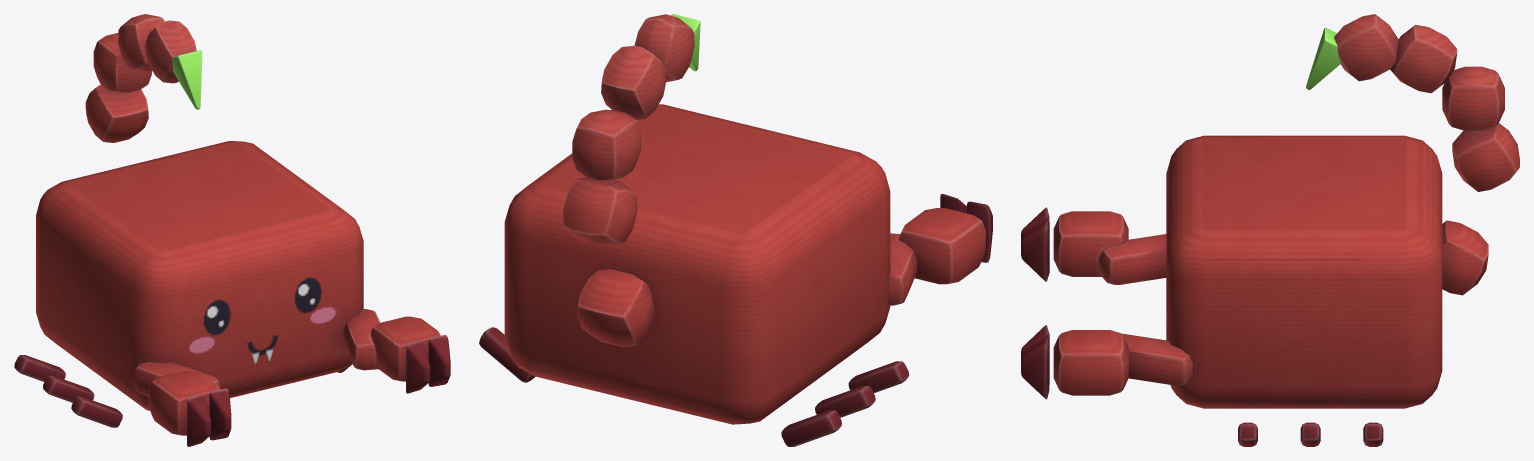
File: Scorpion.fbx
The picture shows the model from 3 angles, left to right: view 1: azimuth 30°, elevation 25°; view 2: azimuth 150°, elevation 25°; view 3: azimuth 270°, elevation 25°; orthographic projection. The views are drawn at different scales.
Parts seen in each view (by area): view 1: Scorpion; view 2: Scorpion; view 3: Scorpion.
Part boxes in pixels (<box>): Scorpion: <box>14,14,450,446</box>; Scorpion: <box>479,14,992,446</box>; Scorpion: <box>1021,14,1519,446</box>.
Bounding box in the file's own units: 307 × 325 × 398.
Materials: 1 (1 with a texture image).
